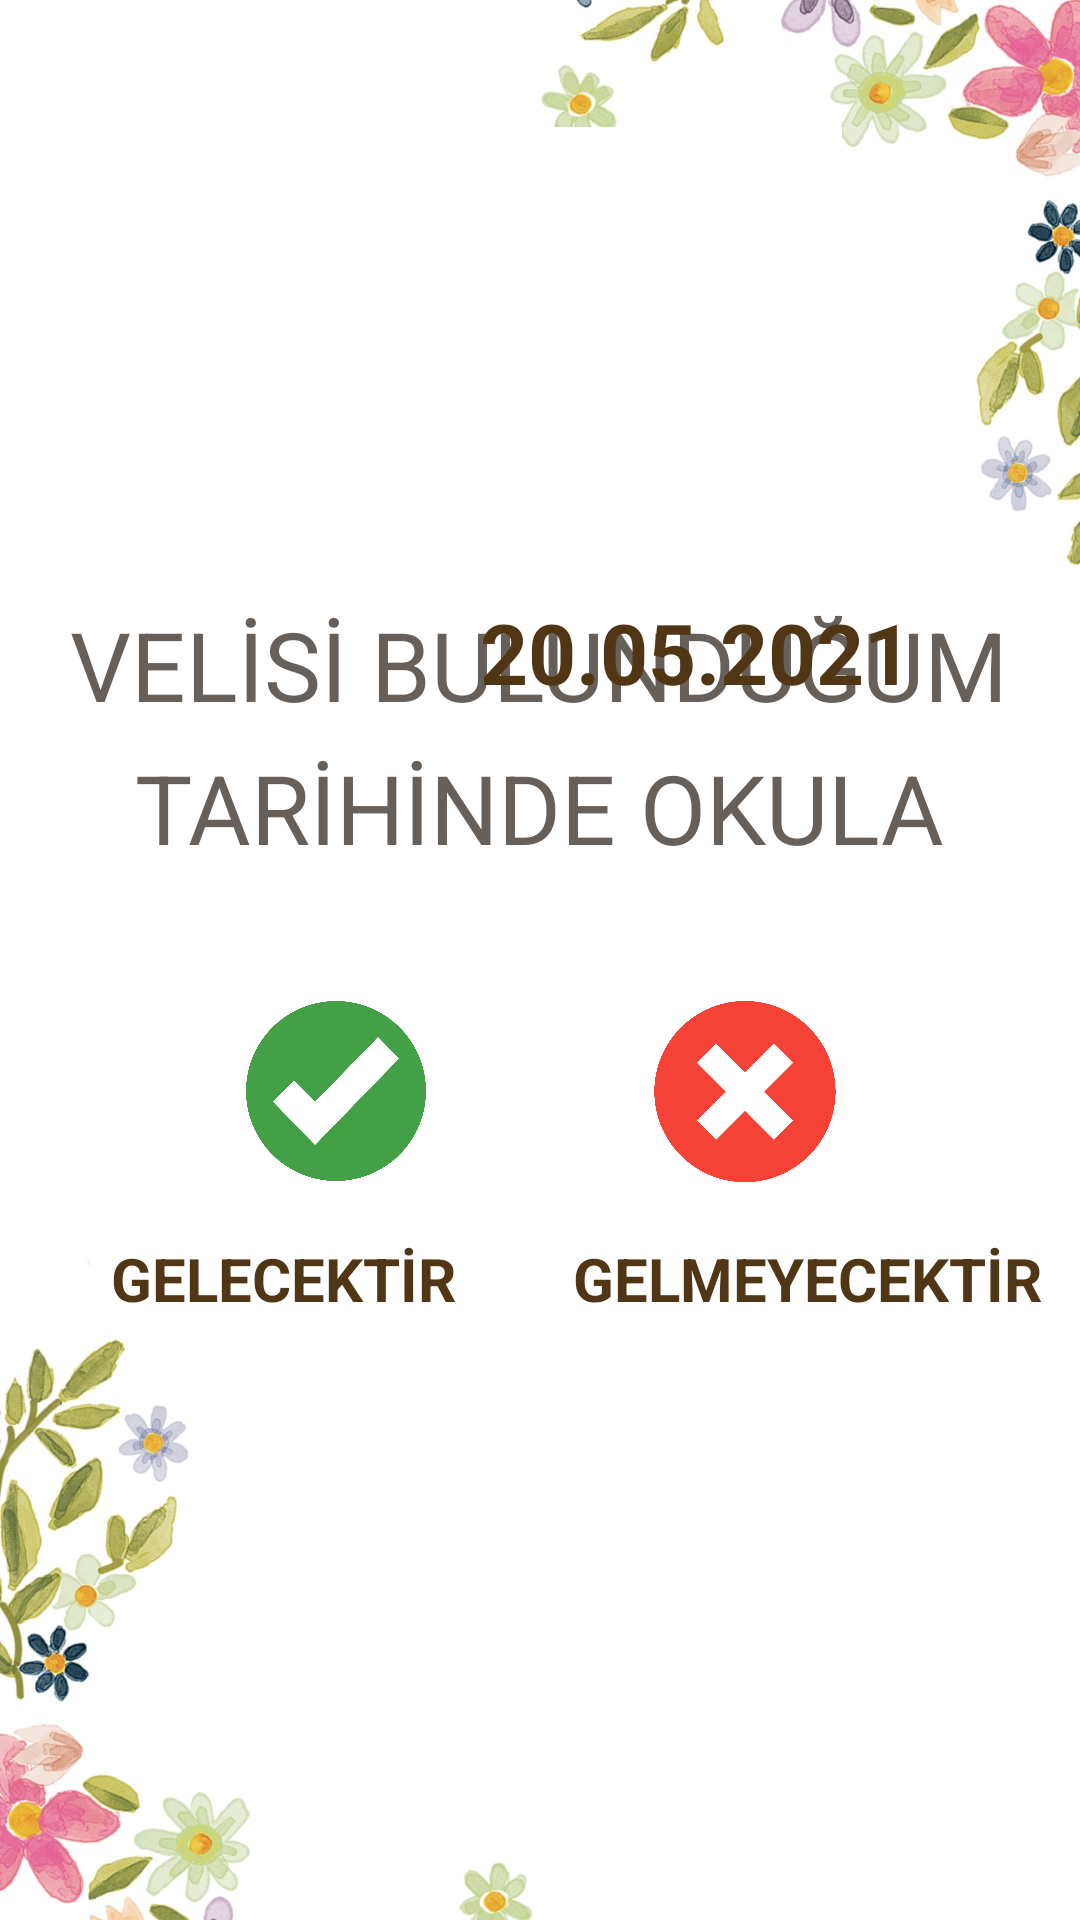

Where icons sit on this 1080px x 1920px app screen, as (x1, y1, x2, y2):
check: (246, 1001, 426, 1181)
